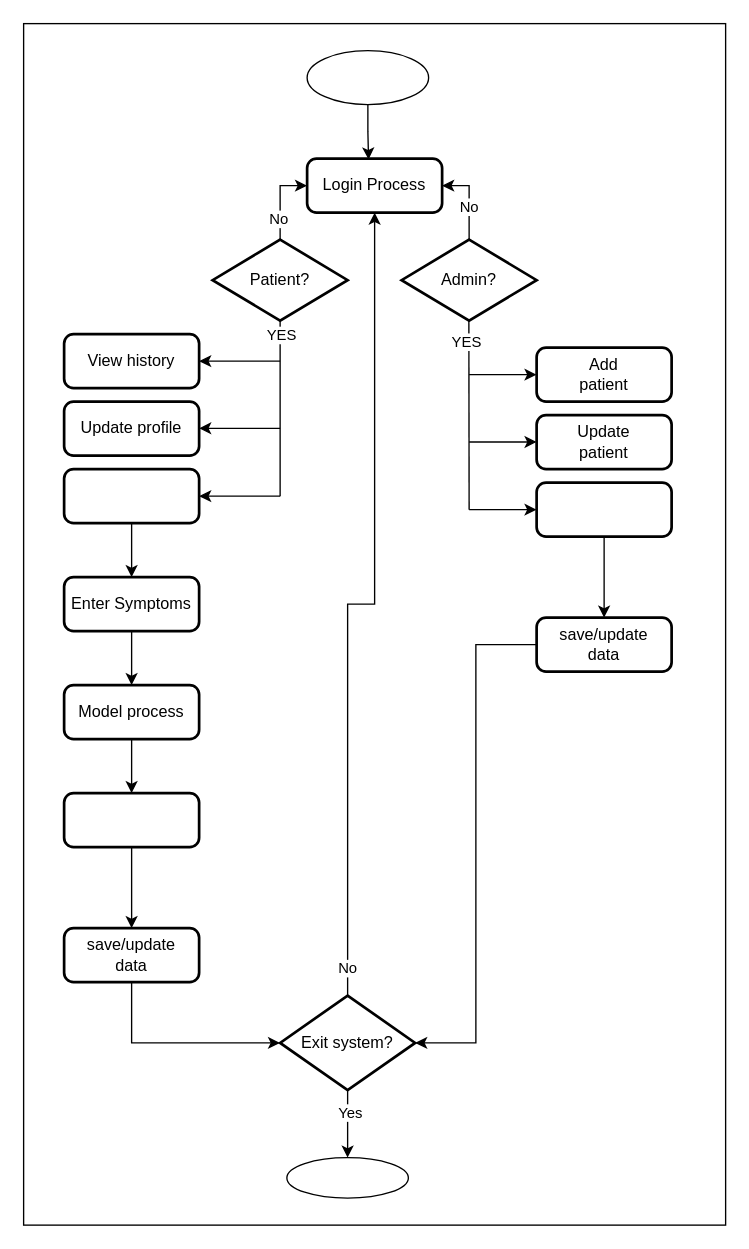
This 749x1249 diagram has some shape labels left out. The centre of each missing label's shape, as x and y in pixels:
Classification outcomes: [131,819]
Delete patient: [603,509]
Perform analysis: [131,495]
start: [367,77]
stop: [347,1177]
